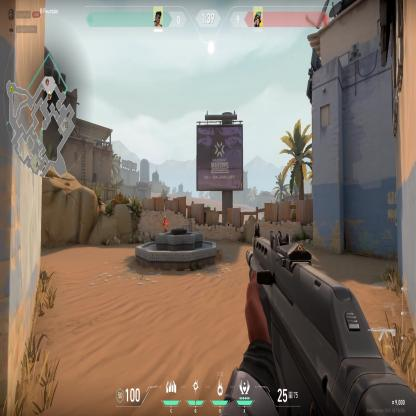enemy: (161, 214, 168, 232)
